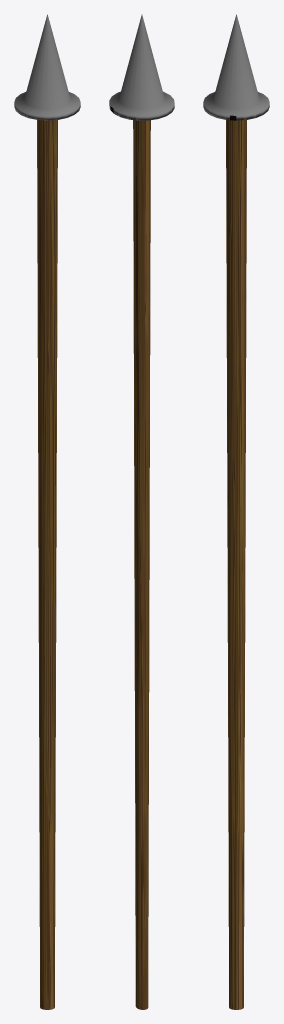
The model's file is rumah_fbx.fbx.
The picture shows the model from 3 angles, left to right: view 1: azimuth 90°, elevation 25°; view 2: azimuth 210°, elevation 25°; view 3: azimuth 270°, elevation 25°; orthographic projection.
Parts seen in each view (by area): view 1: pCylinder17; view 2: pCylinder17; view 3: pCylinder17.
Part boxes in pixels (left/top/right/bottom): pCylinder17: left=14, top=14, right=80, bottom=1009; pCylinder17: left=109, top=14, right=174, bottom=1009; pCylinder17: left=203, top=14, right=269, bottom=1009.
Size of the model in its own units: 0.2115 by 3.54 by 0.2151.
1 material, 1 textured.
